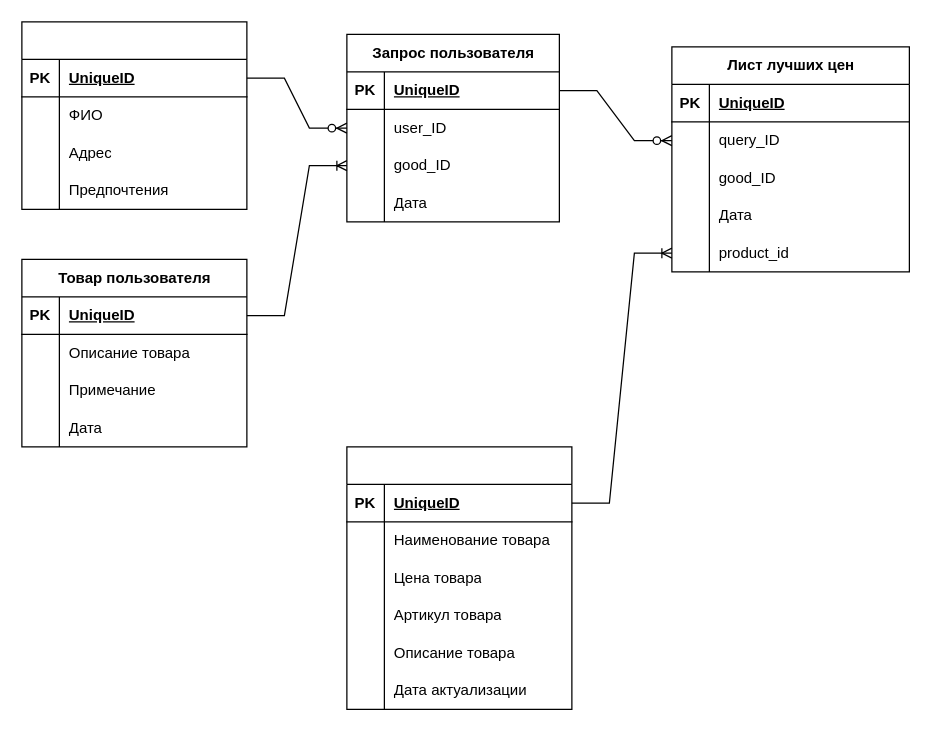
This 931x731 diagram has some shape labels left out. Here are the shapes that lost their labels. From the top down, the box of each, then its label:
(21, 21, 247, 209): Пользователь
(346, 446, 572, 709): Товар ритейлера
